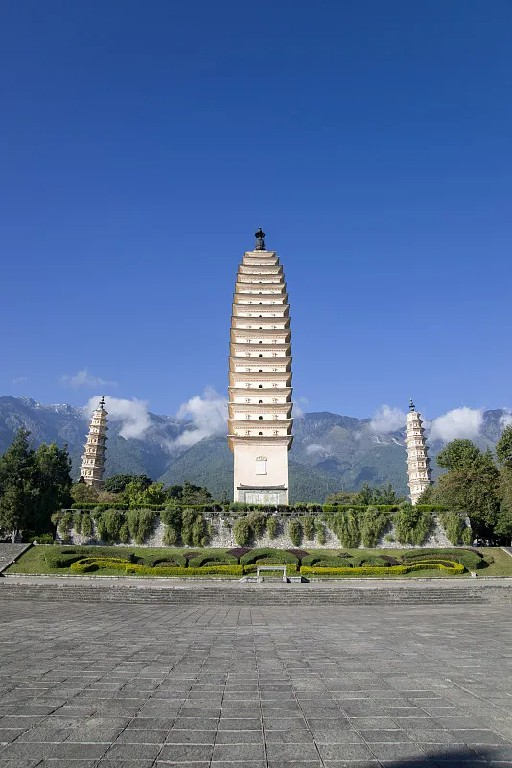ThreePagoda: (227, 227, 294, 504)
